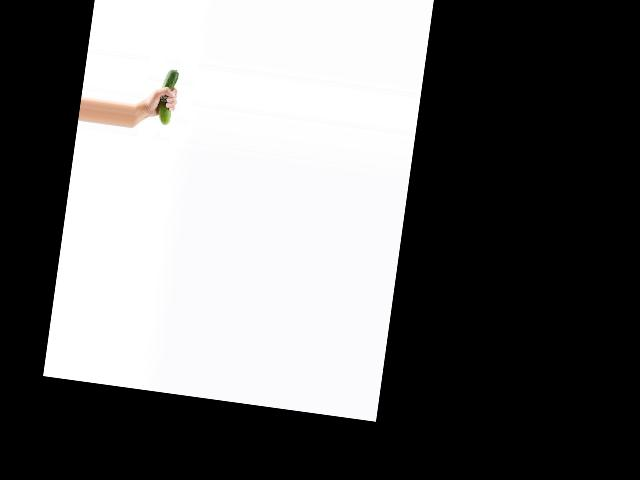cucumber: (156, 68, 180, 125)
